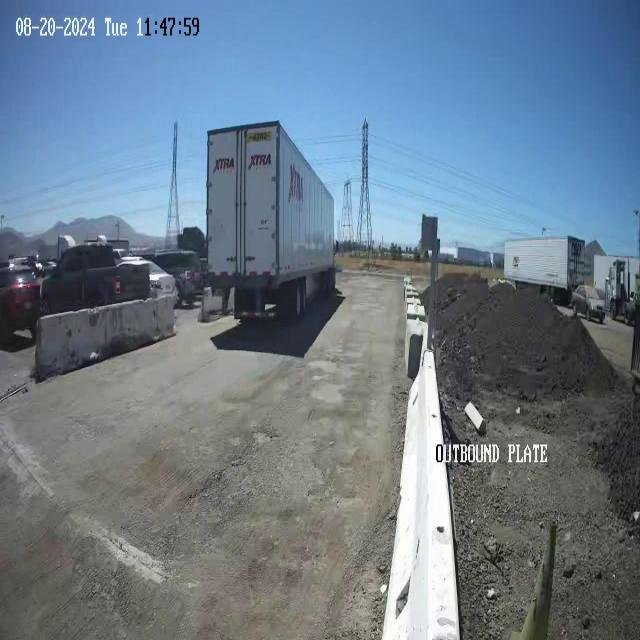TRUCK_CONTAINER: (205, 119, 336, 322)
